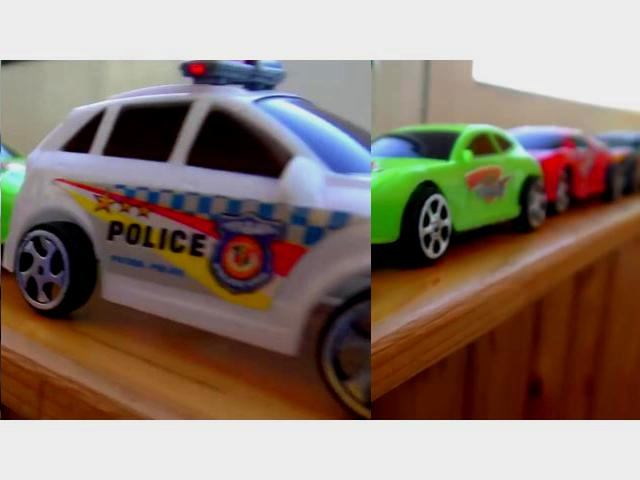toy-car: (0, 60, 371, 420), (344, 123, 550, 266), (501, 125, 621, 216)
